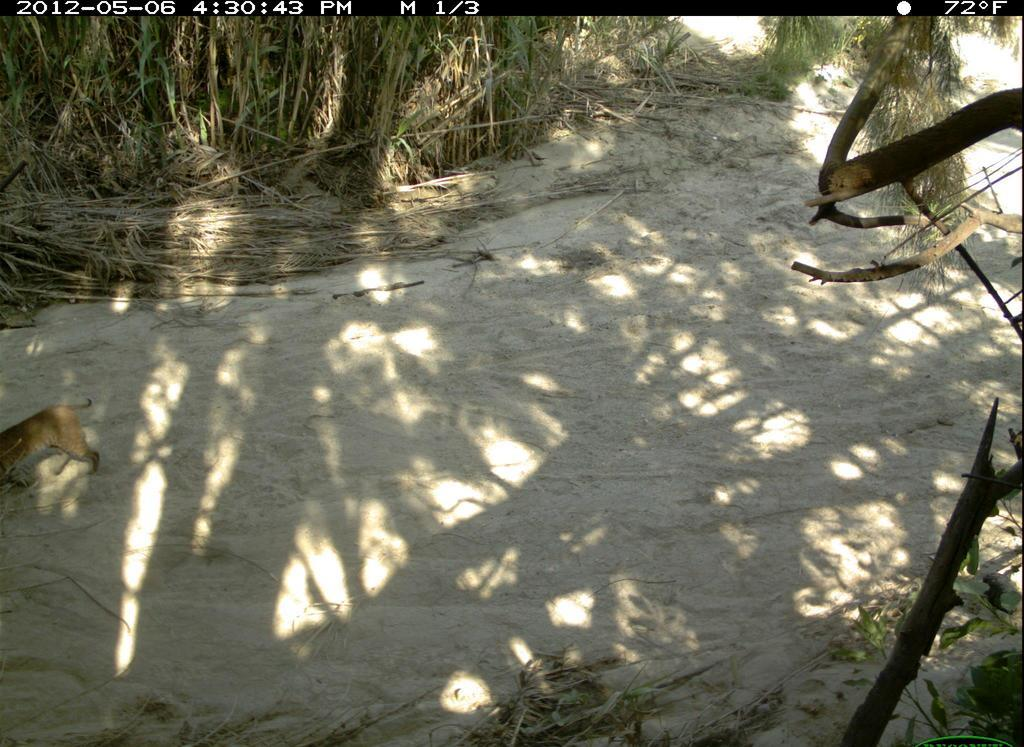bobcat: (3, 388, 112, 502)
